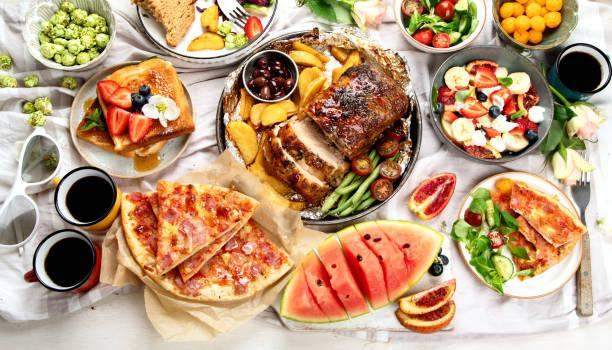Braised Crucian Carp: (102, 149, 321, 342), (215, 30, 420, 226), (455, 170, 584, 296), (429, 44, 554, 163), (70, 61, 193, 178)
